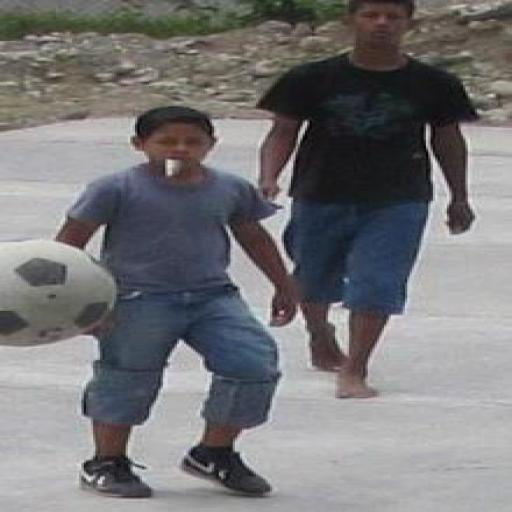person: (56, 106, 295, 497), (259, 0, 477, 398)
